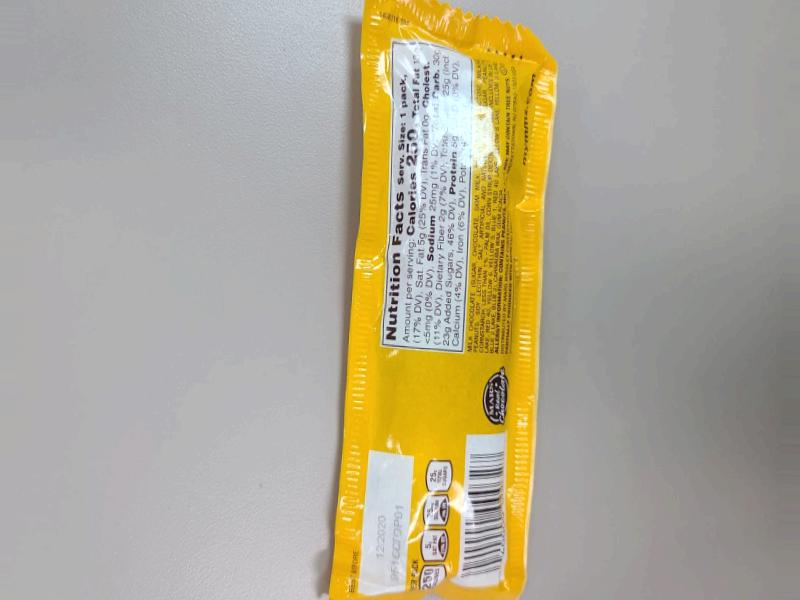m&m: (381, 118, 550, 591)
